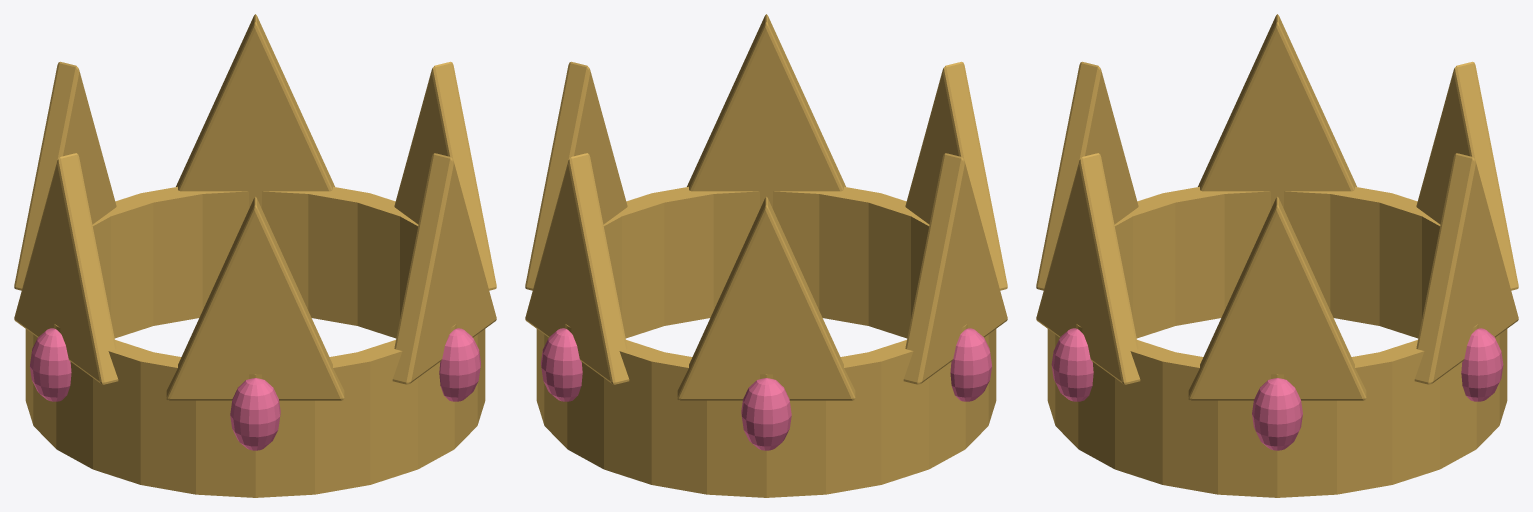
File: P027_paper_crown.glb
The picture shows the model from 3 angles, left to right: view 1: azimuth 30°, elevation 25°; view 2: azimuth 150°, elevation 25°; view 3: azimuth 270°, elevation 25°; orthographic projection.
Parts seen in each view (by area): view 1: P027_band_001, P027_crown_point_010, P027_crown_point_004, P027_crown_point_008, P027_crown_point_012, P027_crown_point_002, P027_crown_point_006, P027_jewel_011, P027_jewel_013, P027_jewel_009; view 2: P027_band_001, P027_crown_point_006, P027_crown_point_012, P027_crown_point_008, P027_crown_point_004, P027_crown_point_002, P027_crown_point_010, P027_jewel_007, P027_jewel_005, P027_jewel_009; view 3: P027_band_001, P027_crown_point_002, P027_crown_point_008, P027_crown_point_004, P027_crown_point_012, P027_crown_point_006, P027_crown_point_010, P027_jewel_003, P027_jewel_005, P027_jewel_013.
Part boxes in pixels (box(x1,y1,x2,y2)): P027_band_001: box(25, 186, 485, 497); P027_crown_point_010: box(166, 197, 344, 400); P027_crown_point_004: box(176, 14, 334, 208); P027_crown_point_008: box(14, 153, 118, 384); P027_crown_point_012: box(392, 153, 496, 384); P027_crown_point_002: box(394, 61, 496, 290); P027_crown_point_006: box(14, 61, 116, 290); P027_jewel_011: box(230, 378, 280, 450); P027_jewel_013: box(439, 328, 480, 401); P027_jewel_009: box(30, 328, 71, 401); P027_band_001: box(536, 186, 996, 497); P027_crown_point_006: box(677, 197, 855, 400); P027_crown_point_012: box(687, 14, 845, 208); P027_crown_point_008: box(903, 153, 1007, 384); P027_crown_point_004: box(525, 153, 629, 384); P027_crown_point_002: box(525, 61, 627, 290); P027_crown_point_010: box(905, 61, 1007, 290); P027_jewel_007: box(741, 378, 791, 450); P027_jewel_005: box(541, 328, 582, 401); P027_jewel_009: box(950, 328, 991, 401); P027_band_001: box(1047, 186, 1507, 497); P027_crown_point_002: box(1188, 197, 1366, 400); P027_crown_point_008: box(1198, 14, 1356, 208); P027_crown_point_004: box(1414, 153, 1518, 384); P027_crown_point_012: box(1036, 153, 1140, 384); P027_crown_point_006: box(1416, 61, 1518, 290); P027_crown_point_010: box(1036, 61, 1138, 290); P027_jewel_003: box(1252, 378, 1302, 450); P027_jewel_005: box(1461, 328, 1503, 401); P027_jewel_013: box(1051, 328, 1093, 401).
Bounding box in the file's own units: 0.3018 × 0.1889 × 0.2835.
